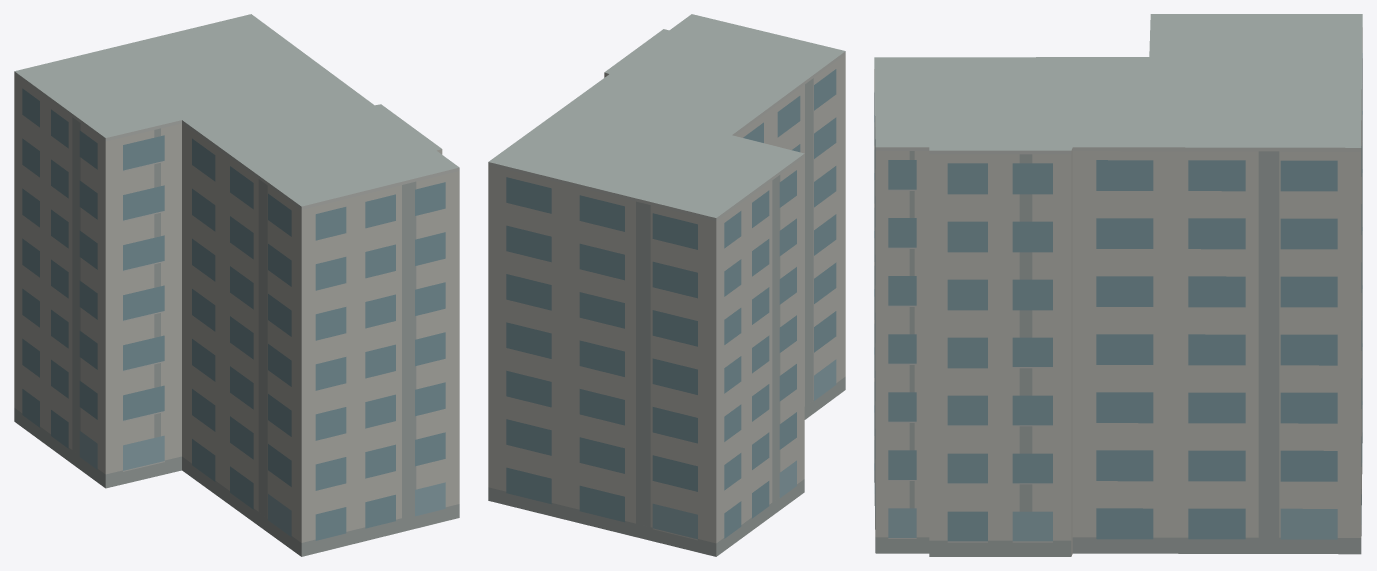
File: survey-upis-33039182.glb
3 views of the same model, side by side, from view 1: azimuth 30°, elevation 25°; view 2: azimuth 150°, elevation 25°; view 3: azimuth 270°, elevation 25° (orthographic). The views are drawn at different scales.
Visible parts, largest first — view 1: survey-upis-33039182.tmp; view 2: survey-upis-33039182.tmp; view 3: survey-upis-33039182.tmp.
Part boxes in pixels (box(x1,y1,x2,y2)): survey-upis-33039182.tmp: box(14, 14, 459, 556); survey-upis-33039182.tmp: box(488, 14, 845, 556); survey-upis-33039182.tmp: box(874, 14, 1362, 556).
Size of the model in its own units: 18.73 by 25.95 by 28.28.
